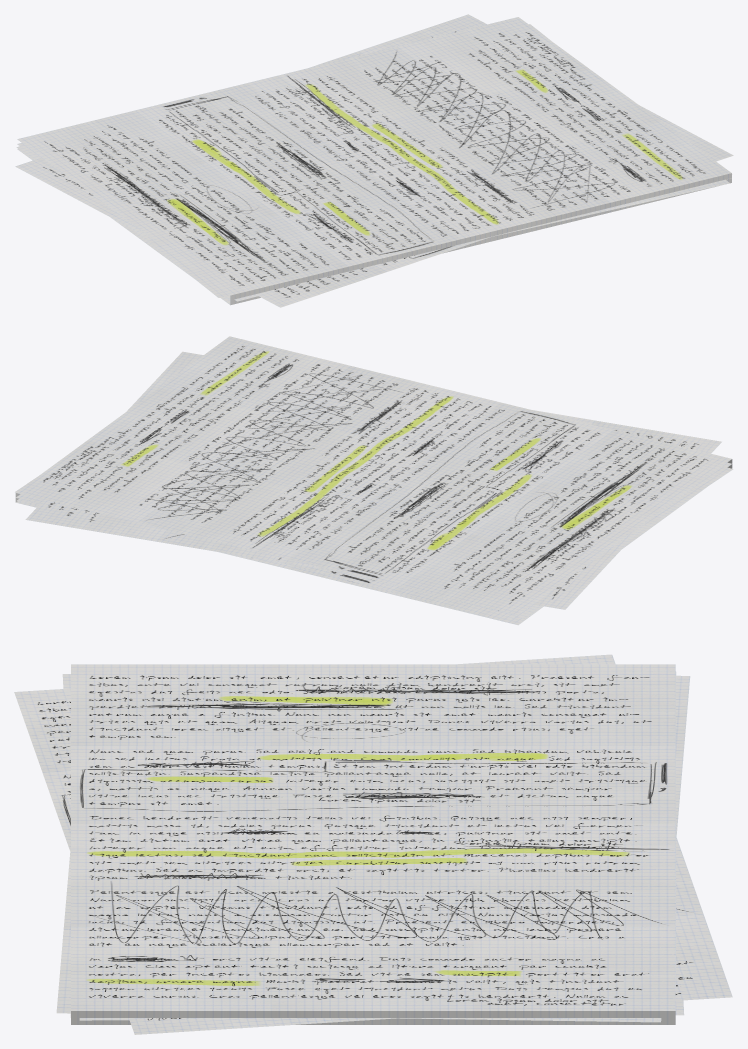
Rendered from Paper Stack (Texture 2).fbx.
The picture shows the model from 3 angles, top to bottom: view 1: azimuth 30°, elevation 25°; view 2: azimuth 150°, elevation 25°; view 3: azimuth 270°, elevation 25°; orthographic projection. The views are drawn at different scales.
Parts seen in each view (by area): view 1: Plane.011, Plane.006, Plane.012; view 2: Plane.011, Plane.006, Plane.012; view 3: Plane.011, Plane.006, Plane.012.
Boxes of the visible parts, x1,y1,x2,y2 form: Plane.011: (17,17,731,305); Plane.006: (15,14,733,307); Plane.012: (132,24,729,297); Plane.011: (15,336,732,625); Plane.006: (25,351,721,609); Plane.012: (15,466,732,622); Plane.011: (71,664,675,1024); Plane.006: (14,654,732,1034); Plane.012: (56,675,689,1022).
Size of the model in its own units: 276 by 4.68 by 221.
